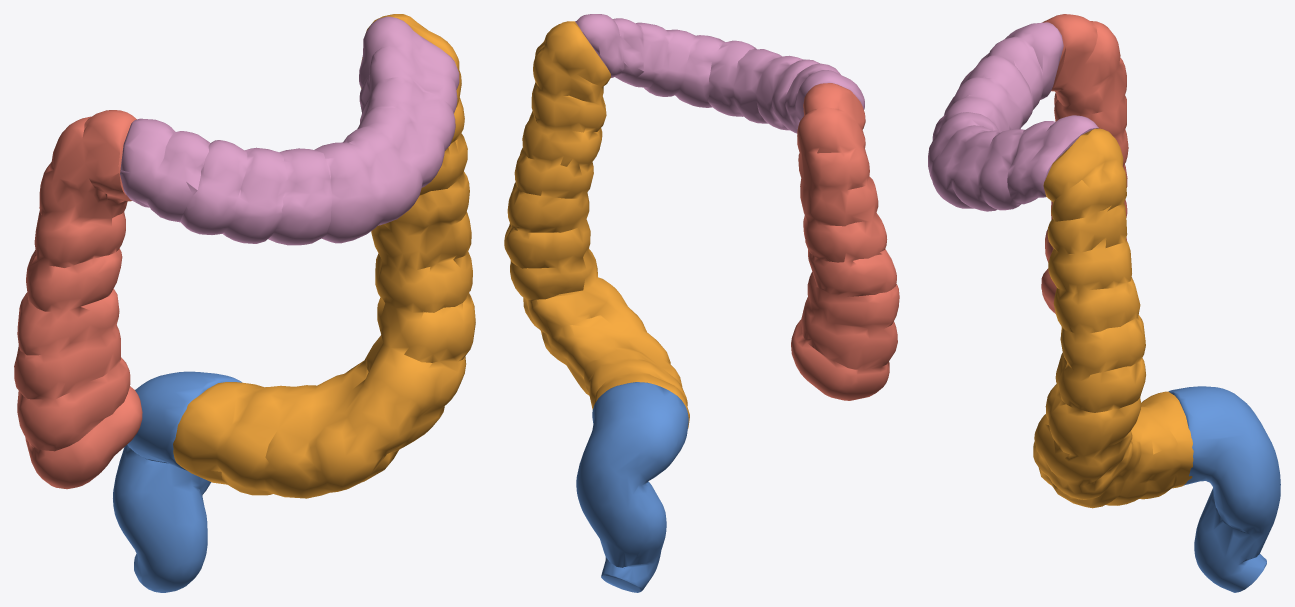
File: large-intestine.glb
3 renders of one model, left to right at view 1: azimuth 30°, elevation 25°; view 2: azimuth 150°, elevation 25°; view 3: azimuth 270°, elevation 25°, orthographic. The views are drawn at different scales.
Parts seen in each view (by area): view 1: Descending colon, Transverse colon, Ascending colon, Rectum; view 2: Descending colon, Ascending colon, Transverse colon, Rectum; view 3: Descending colon, Transverse colon, Rectum, Ascending colon.
Boxes of the visible parts, bbox=[...] form: Descending colon: bbox=[173, 14, 475, 498]; Transverse colon: bbox=[120, 16, 459, 245]; Ascending colon: bbox=[14, 110, 142, 489]; Rectum: bbox=[113, 371, 241, 592]; Descending colon: bbox=[504, 21, 689, 428]; Ascending colon: bbox=[791, 83, 899, 400]; Transverse colon: bbox=[575, 14, 864, 133]; Rectum: bbox=[576, 382, 688, 592]; Descending colon: bbox=[1033, 128, 1193, 508]; Transverse colon: bbox=[928, 22, 1098, 211]; Rectum: bbox=[1168, 386, 1280, 592]; Ascending colon: bbox=[1041, 14, 1128, 313].
Size of the model in its own units: 1.59 by 2 by 1.21.
